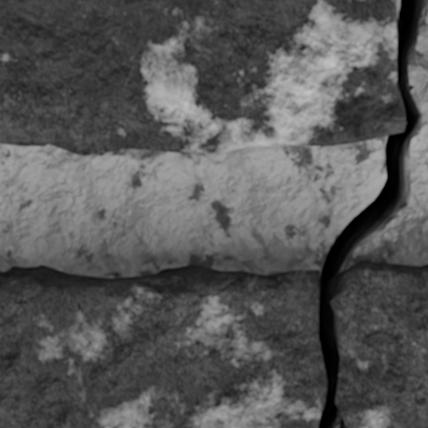brick: (0, 0, 404, 154)
broken_brick: (0, 264, 325, 427), (335, 260, 427, 427)
crack: (317, 0, 426, 427)
